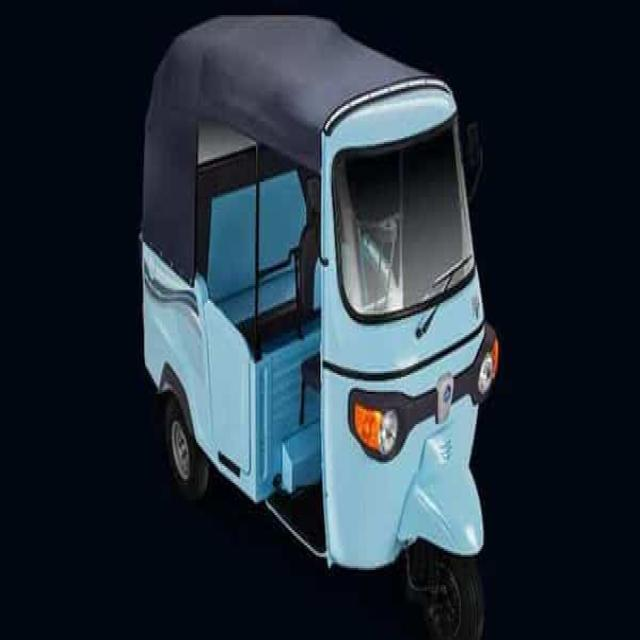autorickshaw: (140, 18, 499, 636)
